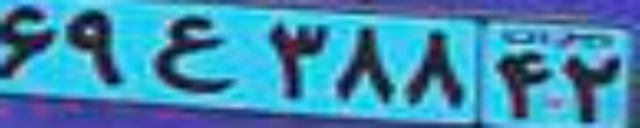2: (561, 50, 624, 121)
3: (269, 22, 325, 100)
4: (496, 50, 551, 117)
6: (1, 6, 55, 79)
8: (405, 30, 465, 108), (334, 27, 394, 104)
9: (67, 9, 123, 86)
ain: (153, 15, 237, 92)
